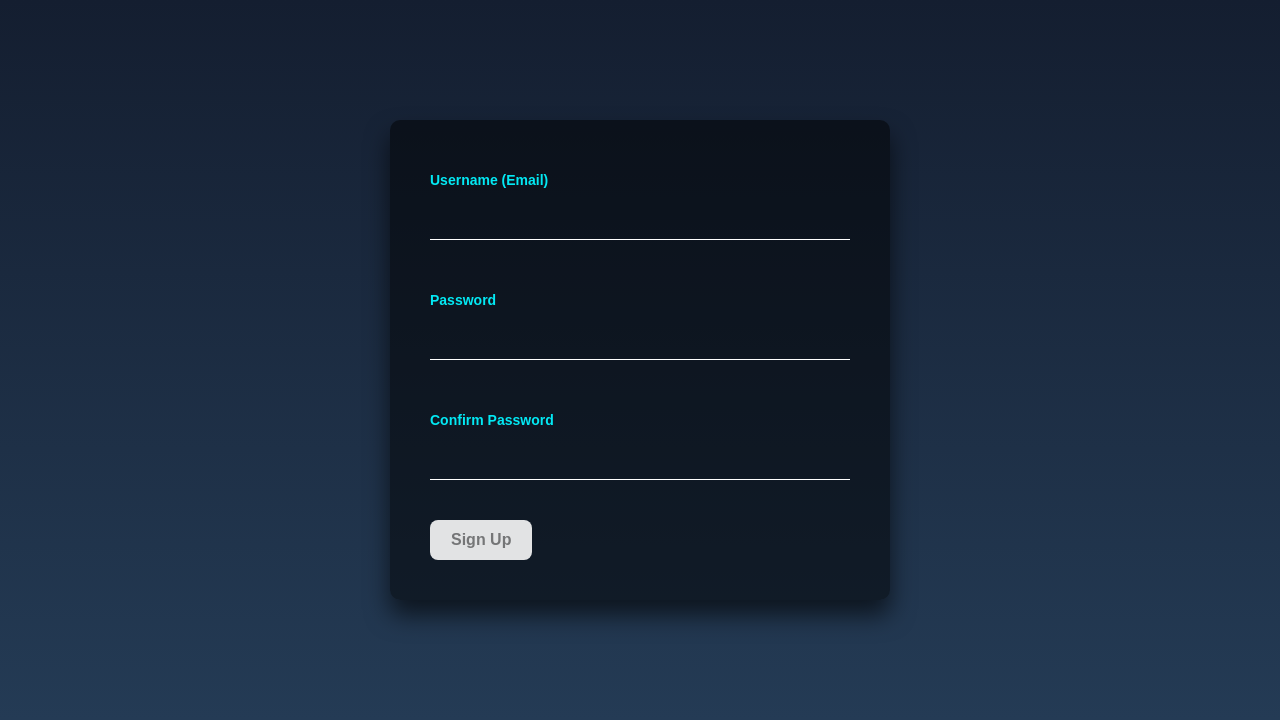
Signup › Form Field Validation › matching error should show when password and confirm password are not the same
Type "test@test.com" into the field labelled "Username (Email)" at (640,220), box x1=430 y1=201 x2=850 y2=240
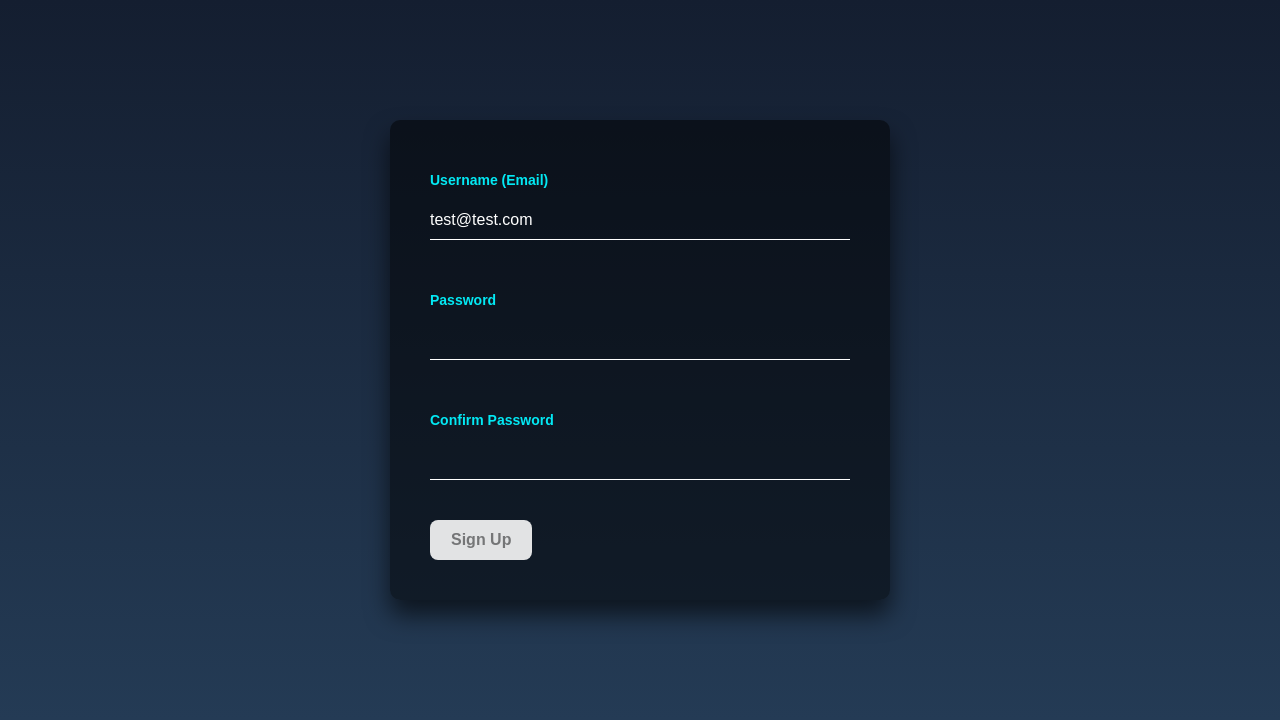
Type "Pw123!" into the password field labelled "Password" at (640,340), box x1=430 y1=321 x2=850 y2=360
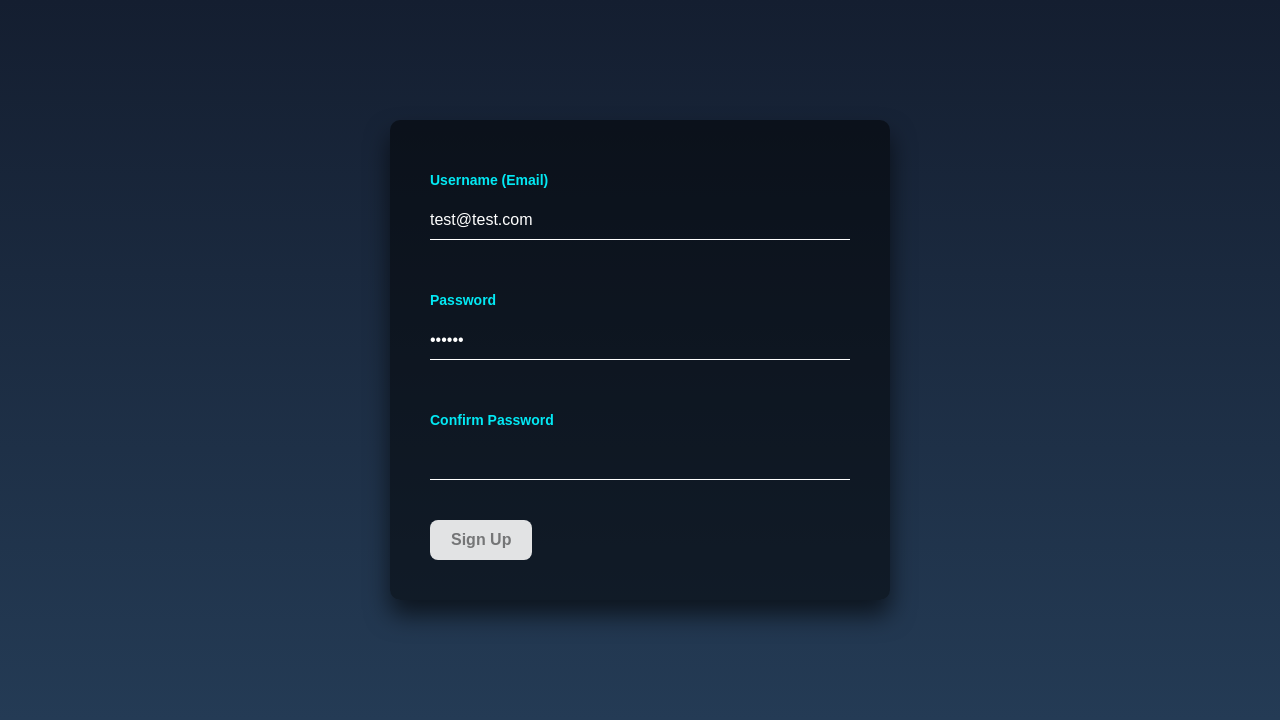
Type "Pw123!!" into the password field labelled "Confirm Password" at (640,460), box x1=430 y1=441 x2=850 y2=480
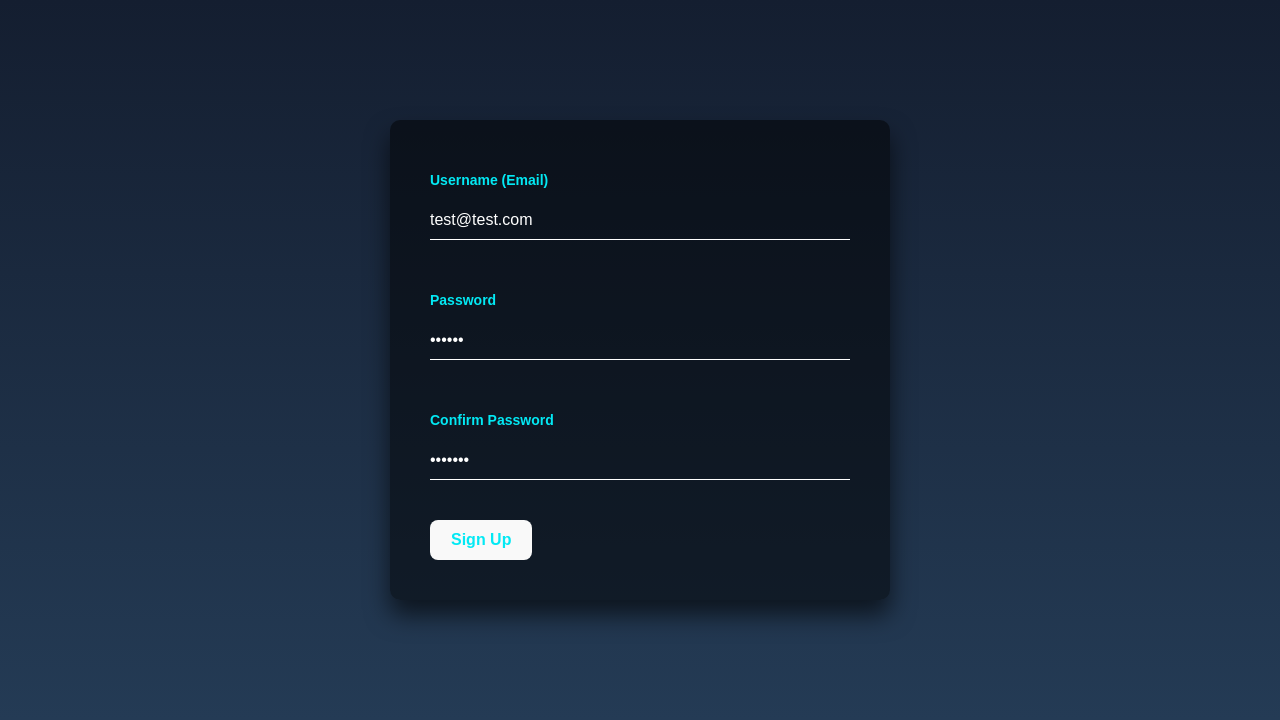
Click the button "Sign Up" at (481,540), box x1=430 y1=520 x2=532 y2=560
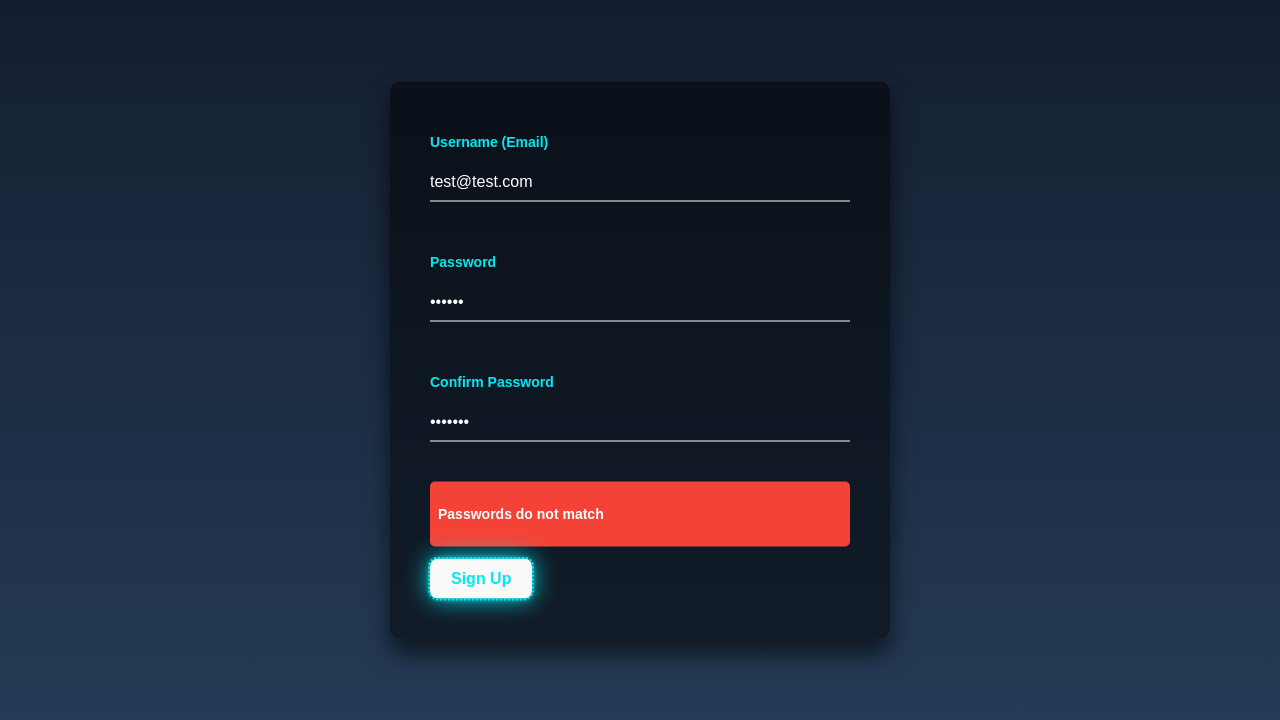
Check: the text "Passwords do not match" is shown, box x1=438 y1=506 x2=604 y2=522
